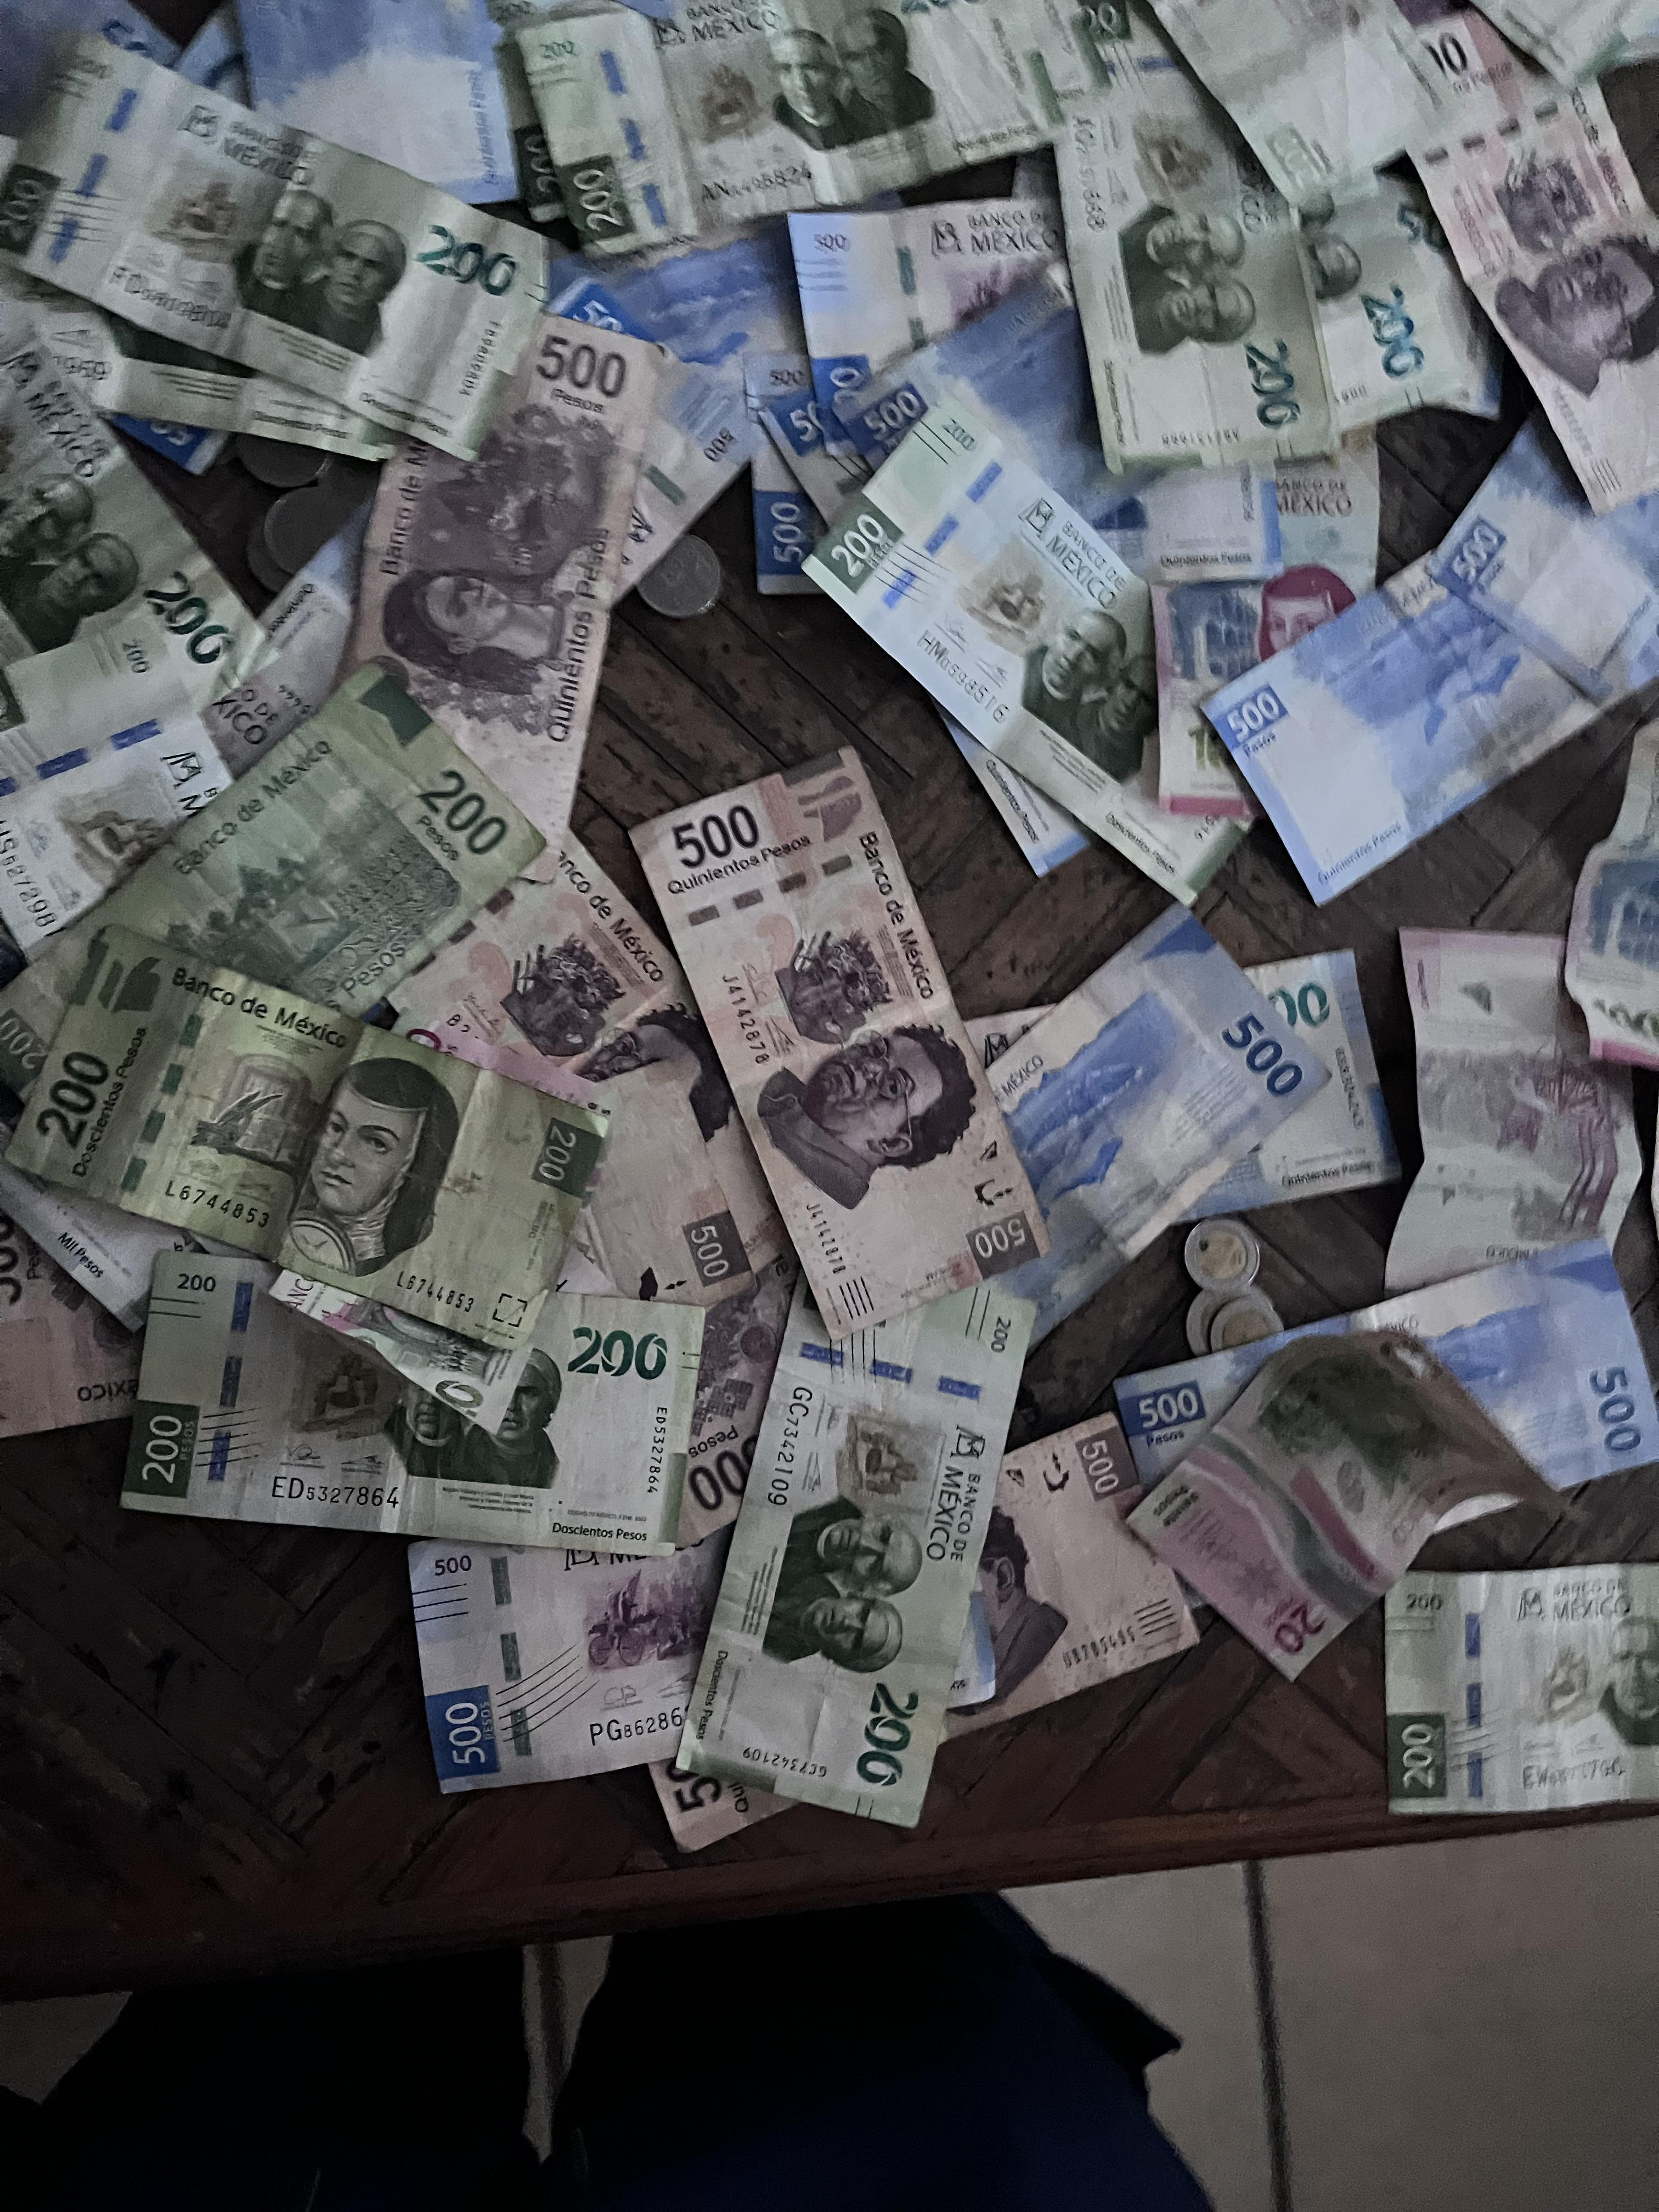100: (1370, 920, 1659, 1371)
200: (789, 385, 1326, 932), (3, 920, 610, 1352), (2, 23, 547, 479), (0, 644, 547, 1092), (132, 1244, 702, 1564), (681, 1256, 972, 1822), (1033, 0, 1347, 486), (0, 284, 288, 765), (500, 5, 1093, 221), (1356, 1564, 1659, 1827)
500: (615, 725, 1079, 1348), (411, 812, 828, 1287), (336, 289, 660, 859), (1342, 0, 1659, 512), (889, 1426, 1222, 1724)
500 nuevo: (1073, 1209, 1659, 1581), (1204, 463, 1659, 907), (948, 892, 1338, 1355), (390, 1484, 803, 1822), (741, 207, 1114, 444)
